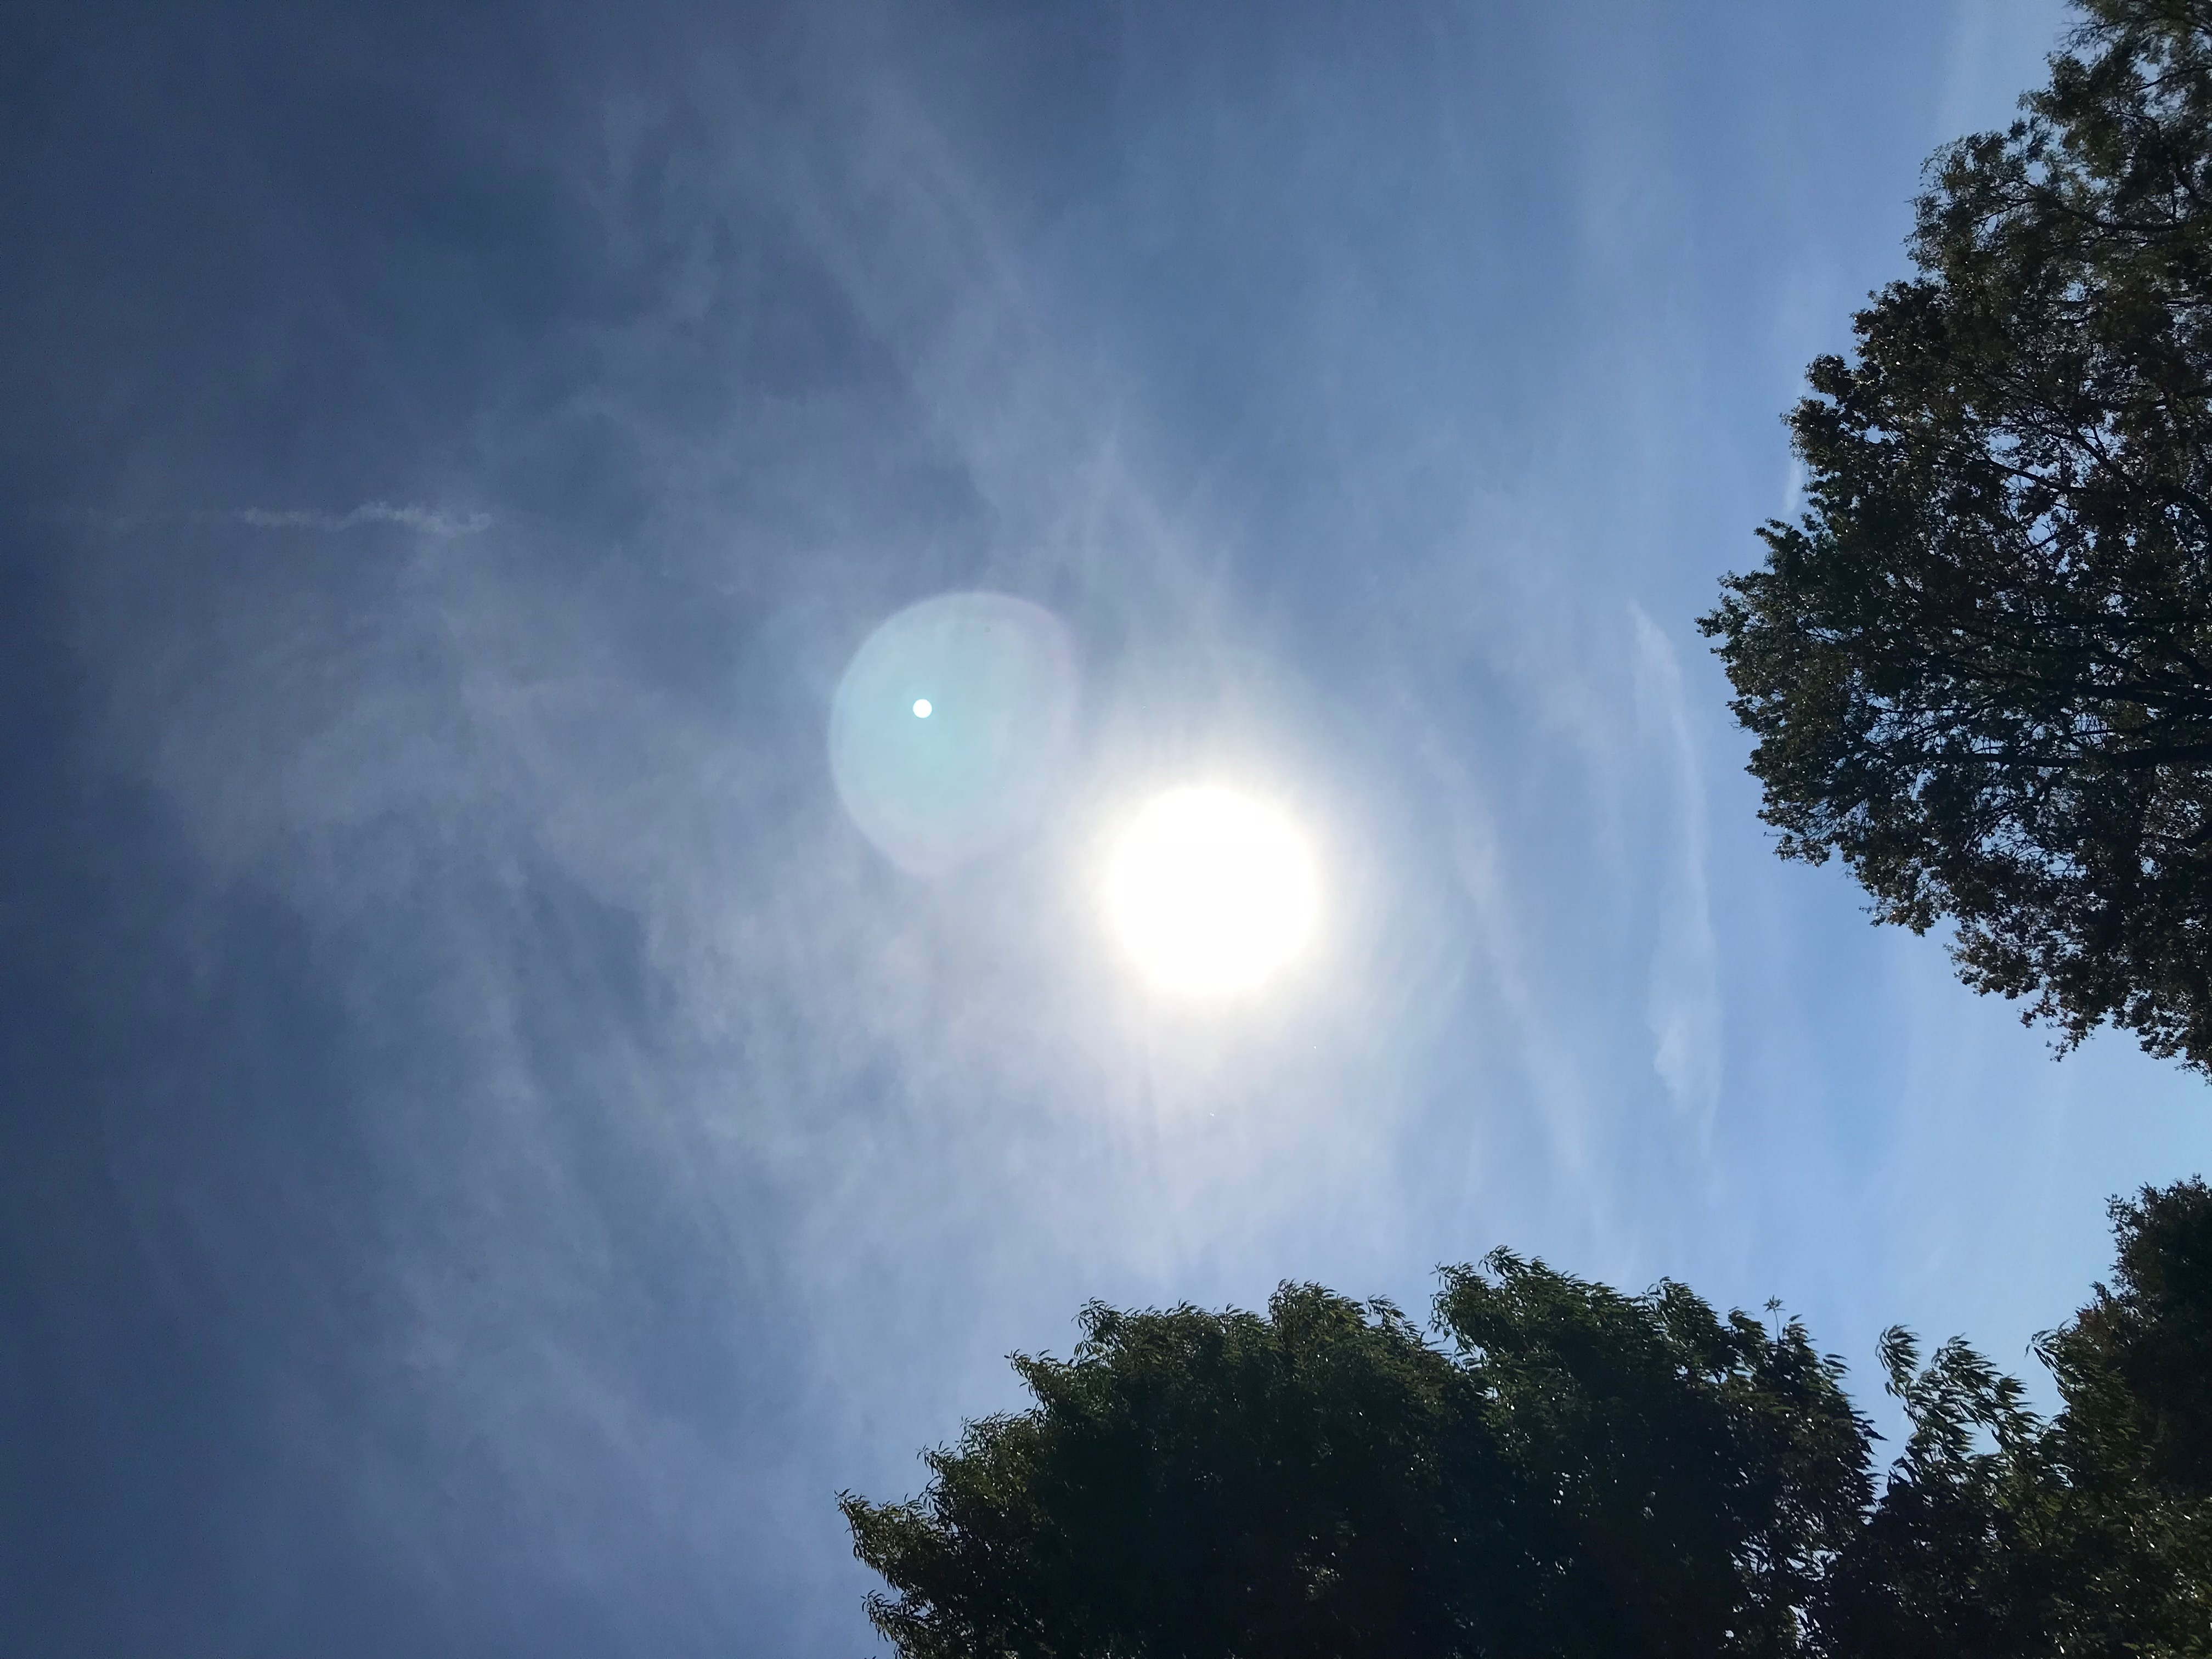flare: (911, 697, 934, 720)
